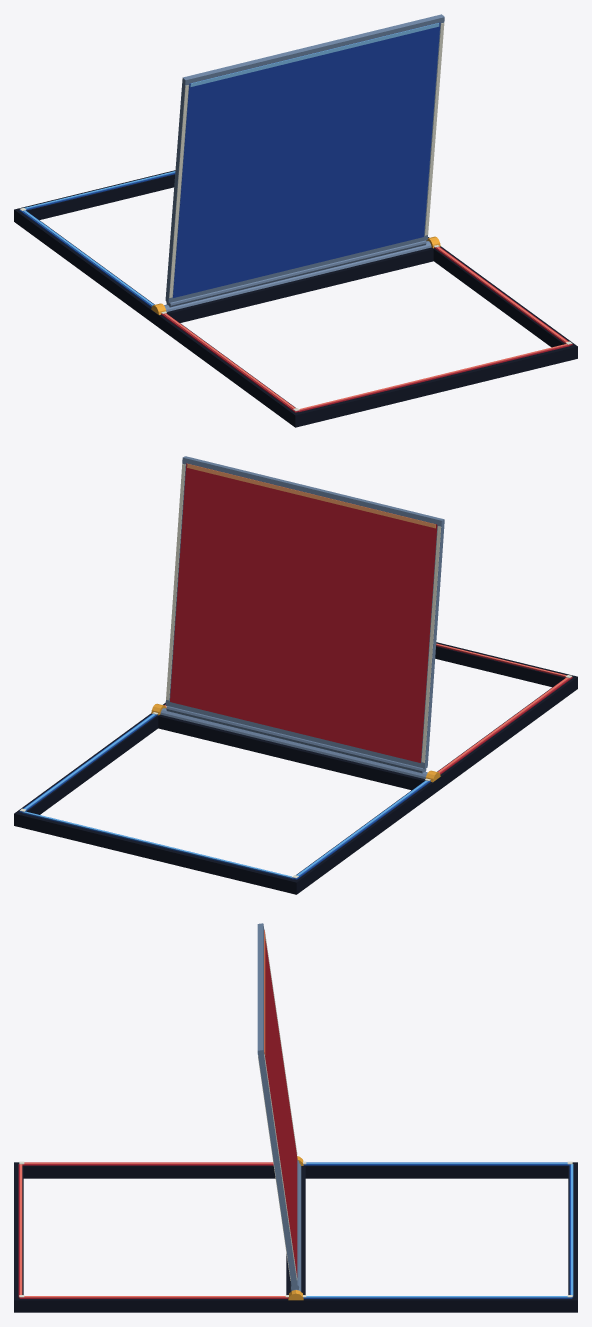
Rendered from jump_flip_pair_flip_13.obj.
3 renders of one model, top to bottom at view 1: azimuth 30°, elevation 25°; view 2: azimuth 150°, elevation 25°; view 3: azimuth 270°, elevation 25°, orthographic.
Visible parts, largest first — view 1: blue_top, red_end_shell, reversible_leaf, red_side_shell, blue_side_shell, blue_end_shell, blue_side_trim, red_border, red_rim_light, leaf_hinge, hinge_axle, blue_end_bar (+2 smaller); view 2: red_bottom, blue_end_shell, reversible_leaf, blue_side_shell, red_side_shell, red_end_shell, red_side_trim, leaf_hinge, hinge_axle, blue_rim_light, blue_border, red_end_bar (+2 smaller); view 3: blue_side_shell, red_side_shell, red_bottom, reversible_leaf, blue_end_shell, blue_border, red_border, blue_rim_light, red_rim_light, red_end_shell, red_side_trim.
Part boxes in pixels (box(x1,y1,x2,y2)): blue_top: box(173, 22, 440, 297); red_end_shell: box(154, 247, 577, 426); reversible_leaf: box(165, 14, 444, 303); red_side_shell: box(154, 246, 577, 427); blue_side_shell: box(14, 207, 429, 320); blue_end_shell: box(14, 170, 175, 322); blue_side_trim: box(169, 23, 444, 297); red_border: box(161, 246, 572, 412); red_rim_light: box(164, 247, 567, 410); leaf_hinge: box(166, 240, 426, 307); hinge_axle: box(164, 241, 431, 311); blue_end_bar: box(190, 23, 439, 86); red_bottom: box(170, 463, 437, 762); blue_end_shell: box(14, 714, 436, 894); reversible_leaf: box(165, 456, 444, 768); blue_side_shell: box(14, 713, 436, 894); red_side_shell: box(163, 674, 577, 787); red_end_shell: box(435, 642, 577, 789); red_side_trim: box(166, 464, 441, 762); leaf_hinge: box(166, 706, 426, 773); hinge_axle: box(160, 708, 427, 779); blue_rim_light: box(23, 714, 428, 878); blue_border: box(19, 714, 430, 879); red_end_bar: box(187, 463, 435, 528); blue_side_shell: box(296, 1162, 577, 1312); red_side_shell: box(14, 1162, 295, 1312); red_bottom: box(264, 930, 297, 1277); reversible_leaf: box(257, 923, 297, 1286); blue_end_shell: box(296, 1162, 577, 1312); blue_border: box(303, 1162, 573, 1298); red_border: box(18, 1162, 288, 1298); blue_rim_light: box(303, 1162, 573, 1297); red_rim_light: box(20, 1162, 288, 1297); red_end_shell: box(14, 1162, 295, 1312); red_side_trim: box(264, 929, 297, 1279).
Bounding box in the file's own units: 11.6 × 10.05 × 20.
